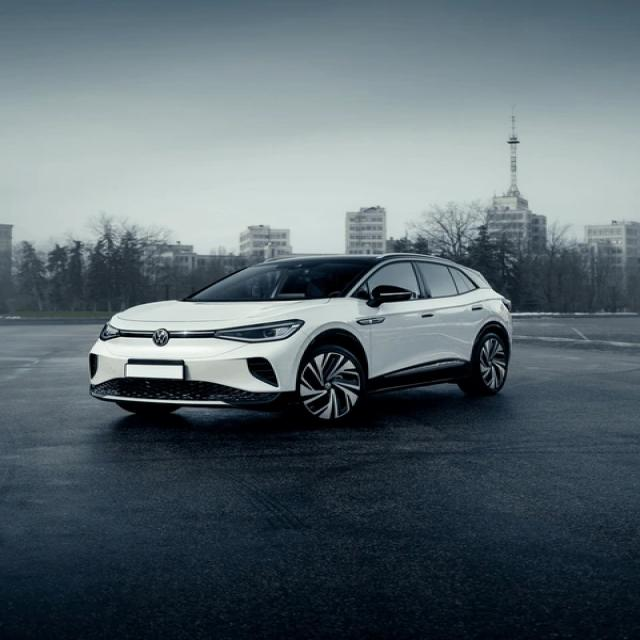wolksvogen: (148, 328, 176, 346)
